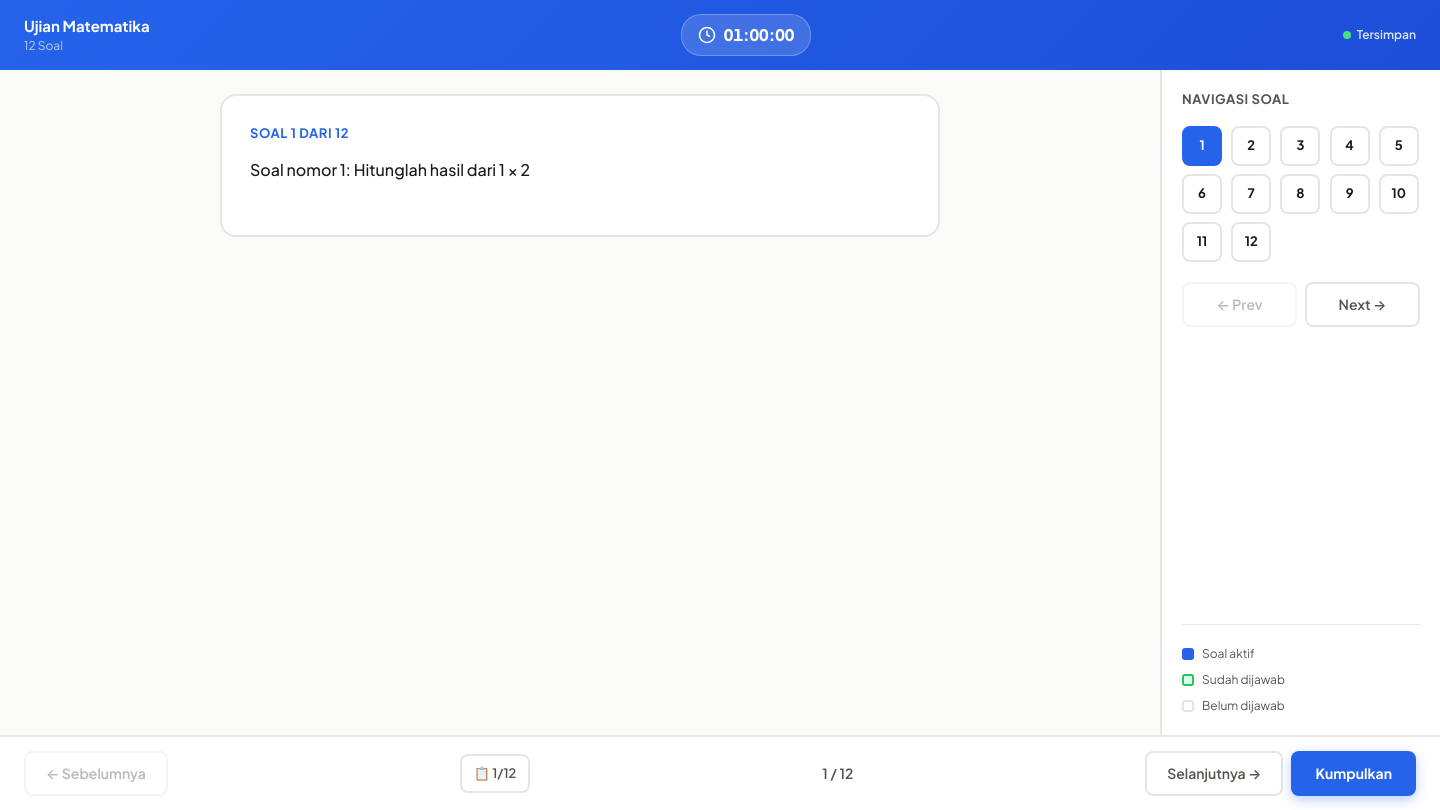
Test: Preservation: Desktop Sidebar Layout › should have working prev/next buttons in sidebar
expect the text "Soal 1 dari 12" is shown: met, box [250,125,349,141]
Note: Click Next in sidebar
Step 1. Click the button "Next →" → (1362, 304), box [1305,282,1420,326]
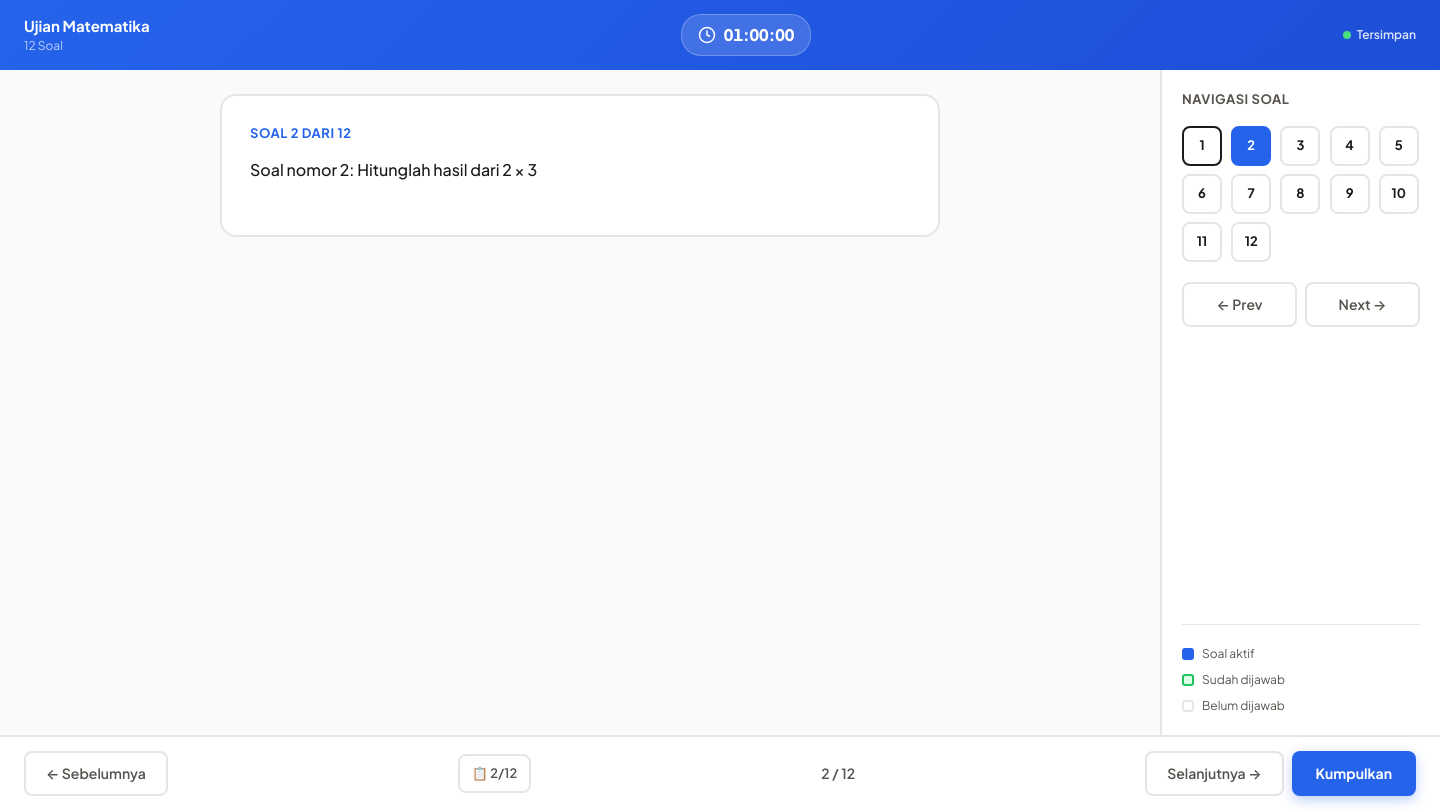
expect the text "Soal 2 dari 12" is shown: met, box [250,125,352,141]
